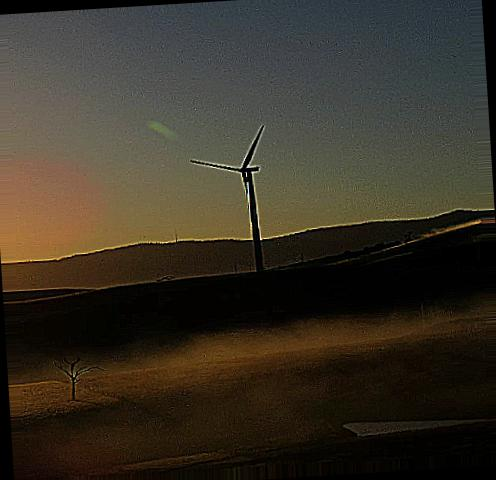wind turbine: (186, 123, 274, 272)
